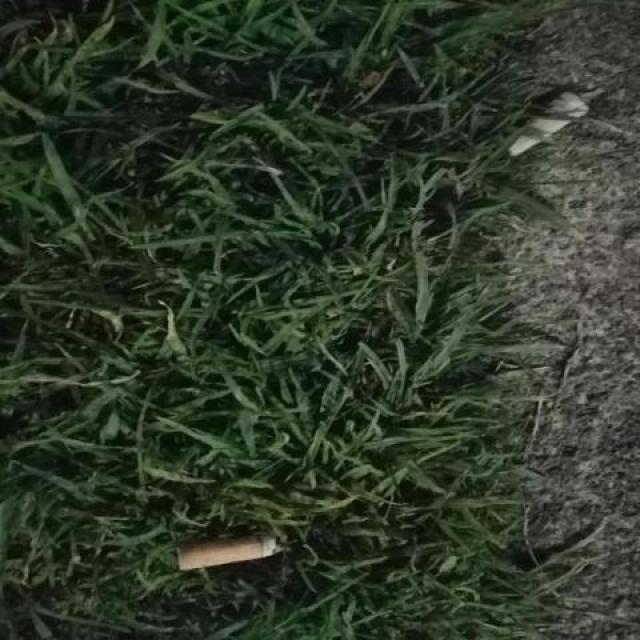non-organic waste: (499, 82, 597, 169), (172, 525, 293, 575)
